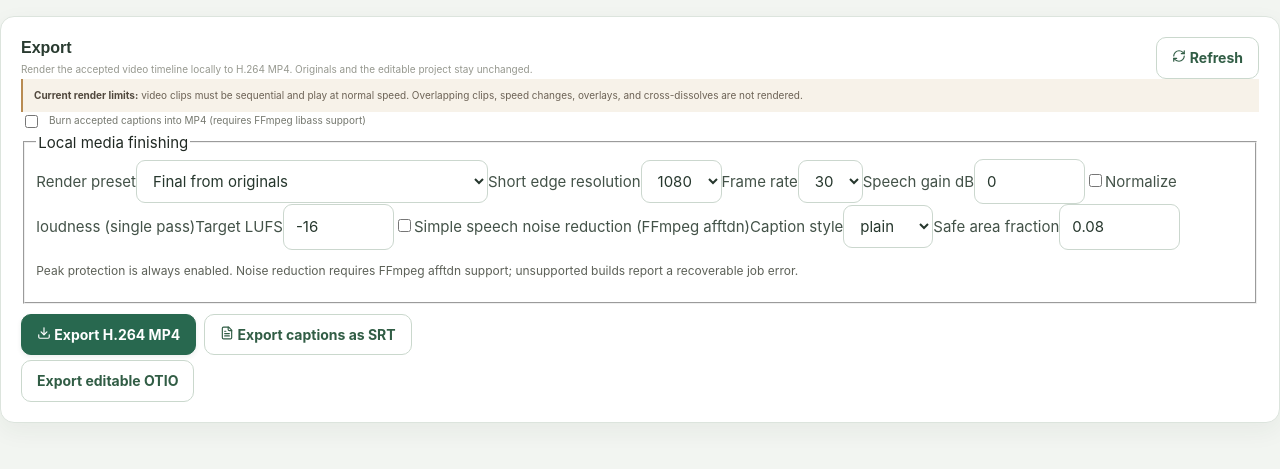
Test case: export sync provenance › submits closed finishing settings and an editable interchange export
The image size is (1280, 469).
Select "Preview quality (up to 720p, from originals)" in the dropdown labelled "Render preset": (312, 182) top-left (136, 160), bottom-right (488, 203)
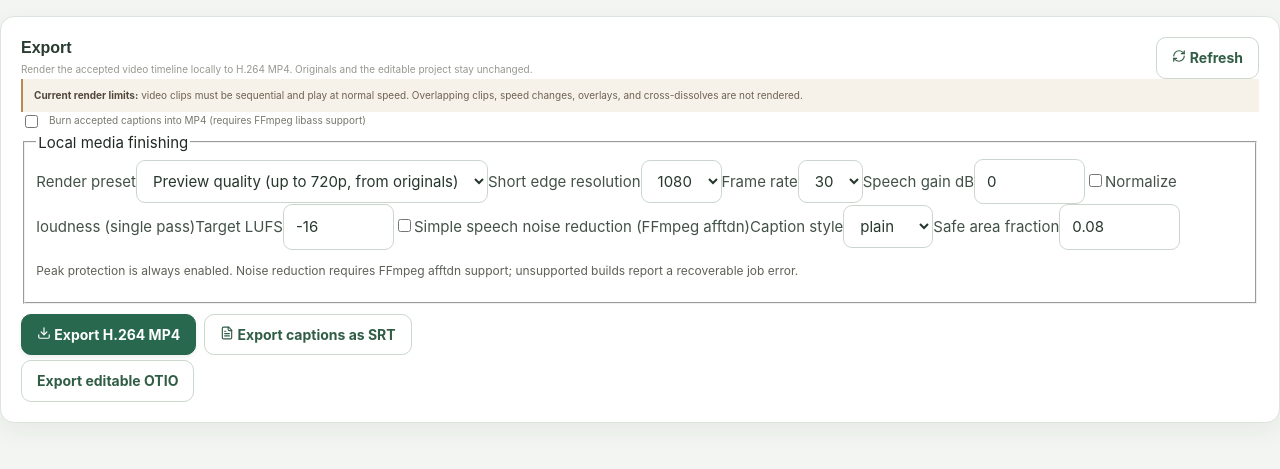
Replace the text in the number field labelled "Target LUFS" with "-18": (338, 227) top-left (283, 204), bottom-right (394, 250)
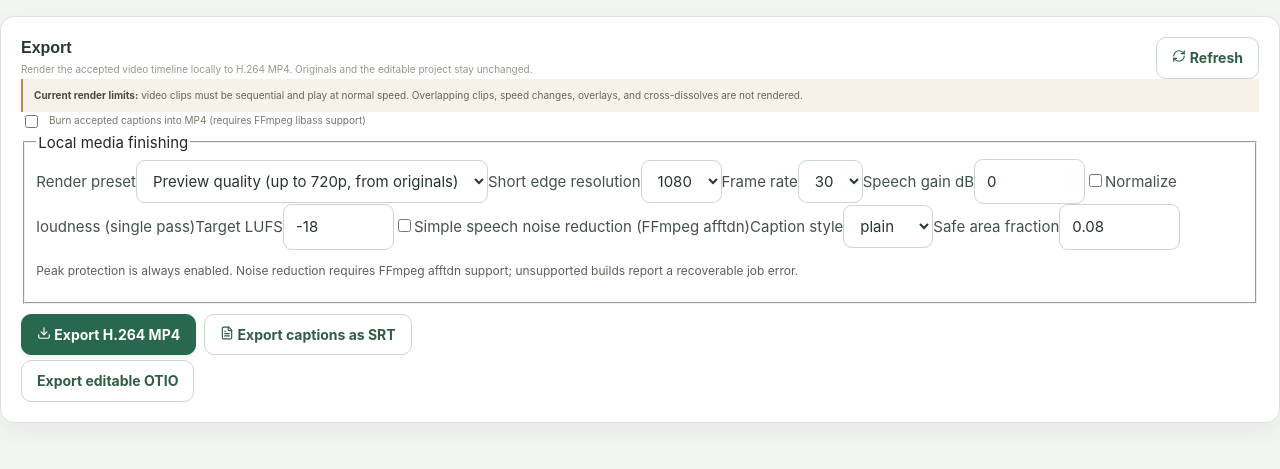
Click the button "Export H.264 MP4": click(109, 335) top-left (21, 314), bottom-right (196, 355)
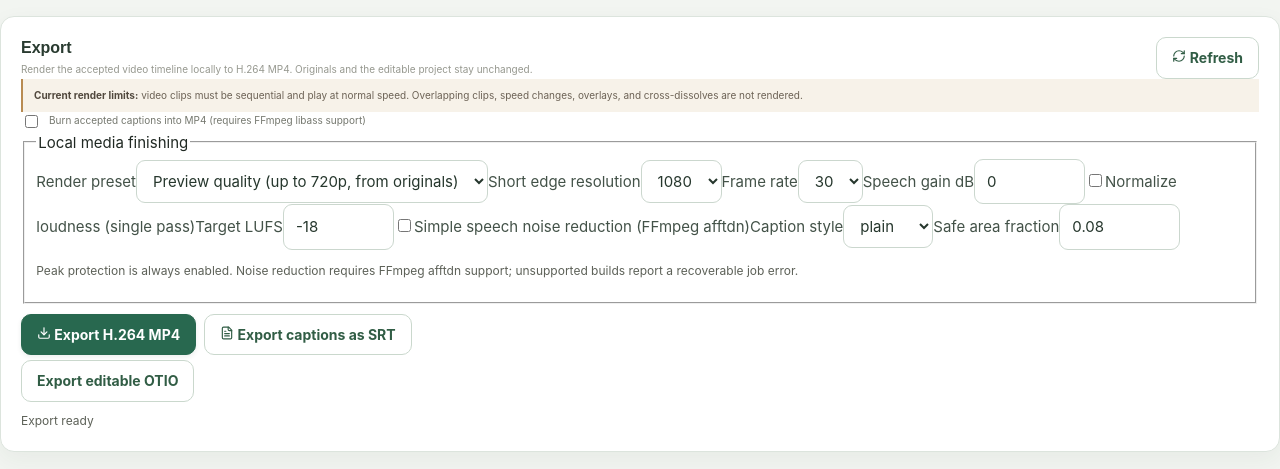
Click the button "Export editable OTIO": click(108, 381) top-left (21, 360), bottom-right (194, 402)
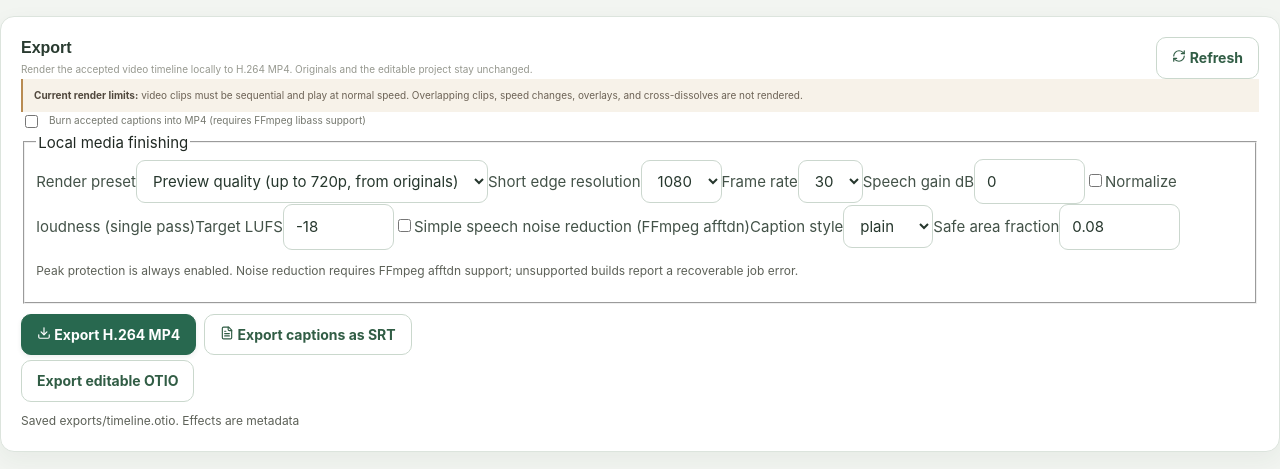
Check: the text "Saved exports/timeline.otio. Effects are metadata" is shown, box top-left (21, 413), bottom-right (299, 428)
